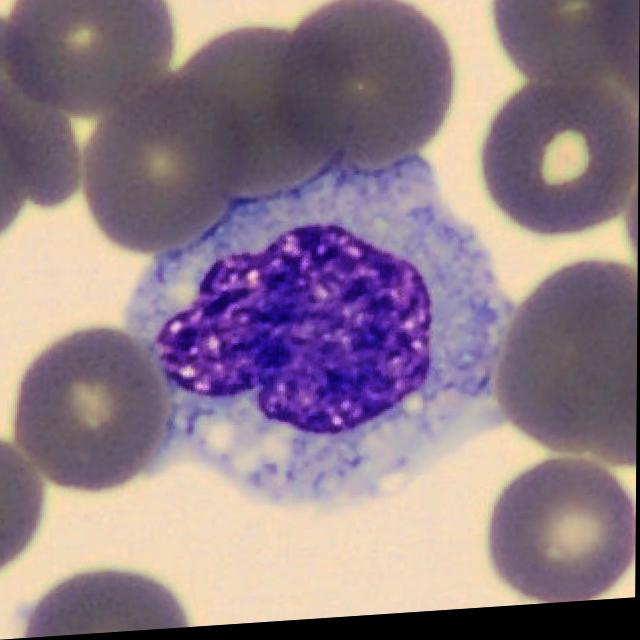Monocito: (132, 163, 512, 507)
